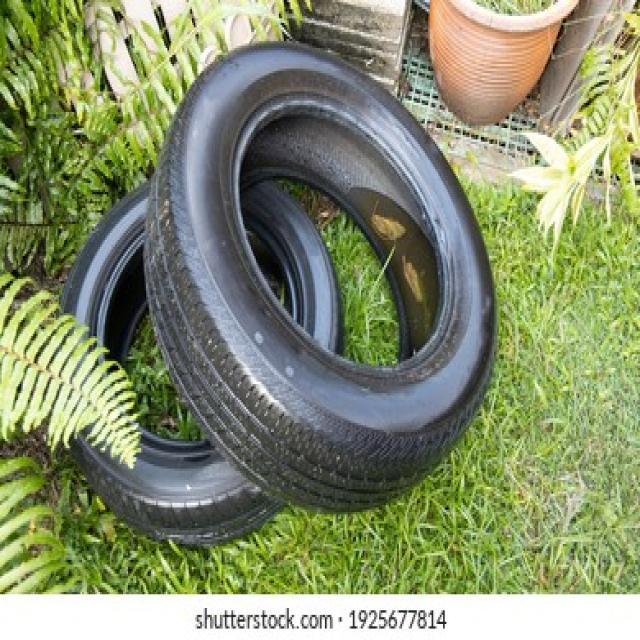artificial_container: (427, 0, 581, 126)
tire: (141, 39, 497, 512), (58, 176, 287, 546)
